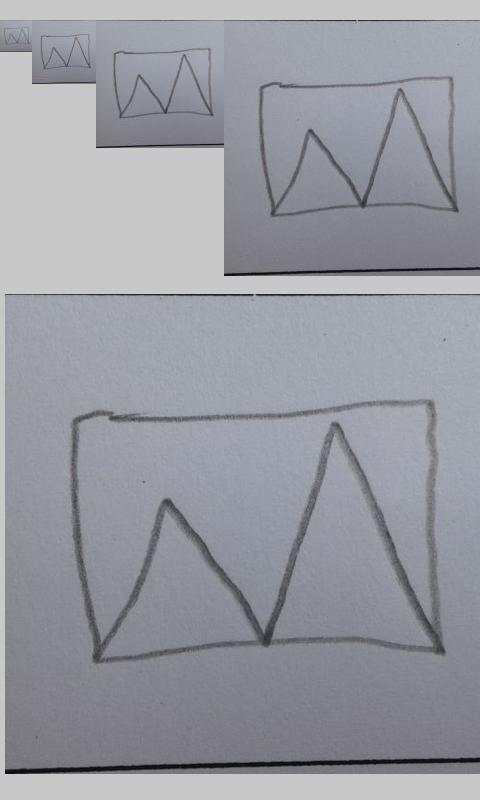image_view: (67, 395, 449, 661), (257, 73, 456, 217), (112, 46, 215, 118), (39, 33, 91, 69), (3, 27, 30, 46)
